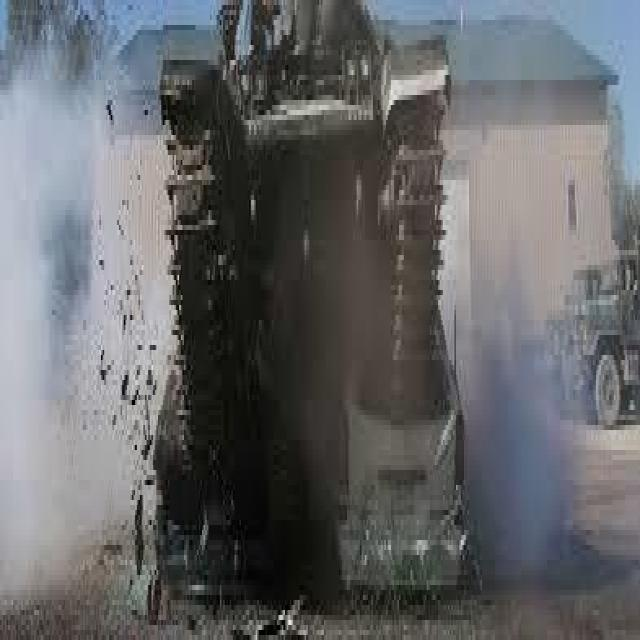Tanks: (150, 15, 451, 600)
